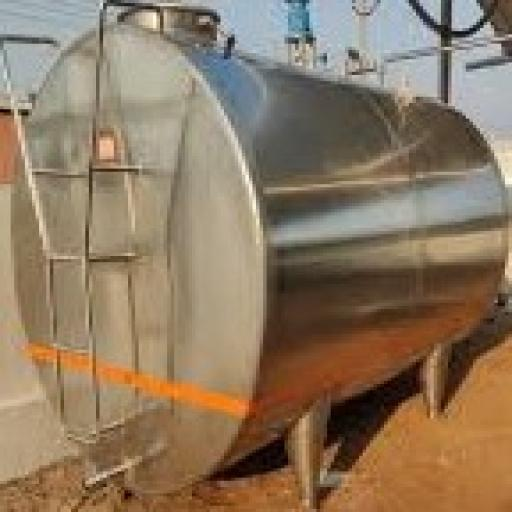vessel: (13, 8, 508, 505)
